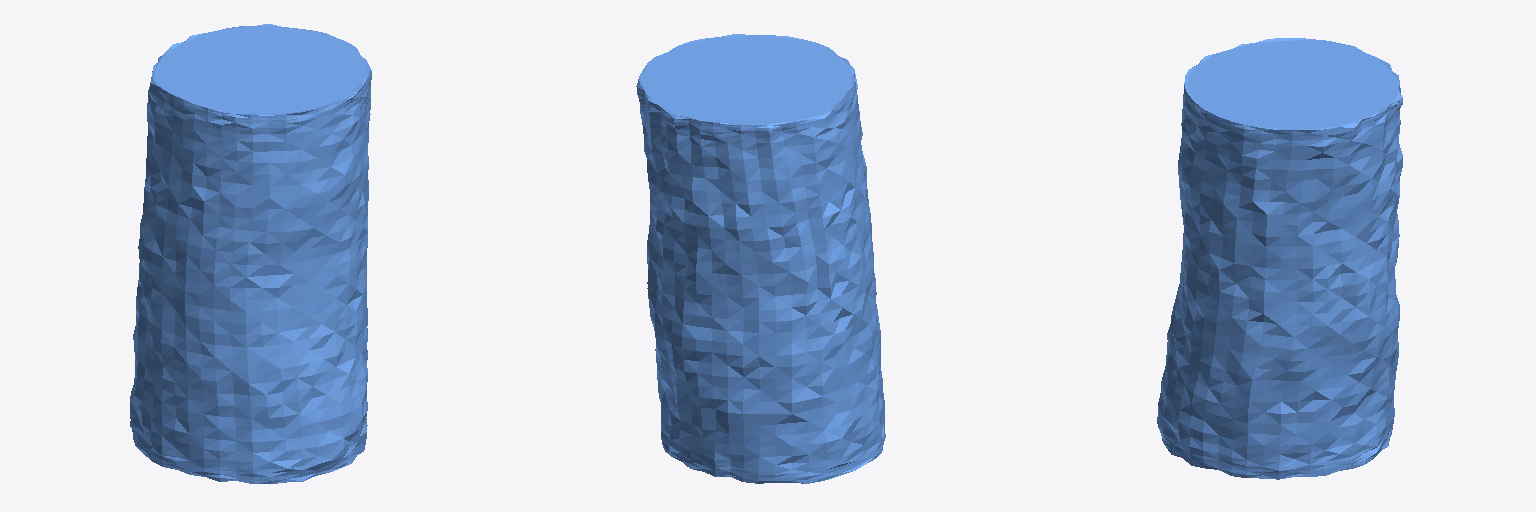
Rendered from log.obj.
3 views of the same model, side by side, from view 1: azimuth 30°, elevation 25°; view 2: azimuth 150°, elevation 25°; view 3: azimuth 270°, elevation 25° (orthographic).
Parts seen in each view (by area): view 1: WoodenLog_QuadsUvs1; view 2: WoodenLog_QuadsUvs1; view 3: WoodenLog_QuadsUvs1.
Boxes of the visible parts, x1=… form: WoodenLog_QuadsUvs1: x1=130, y1=24, x2=371, y2=483; WoodenLog_QuadsUvs1: x1=636, y1=34, x2=885, y2=483; WoodenLog_QuadsUvs1: x1=1157, y1=38, x2=1402, y2=479.
Bounding box in the file's own units: 0.5649 × 0.9049 × 0.5635.